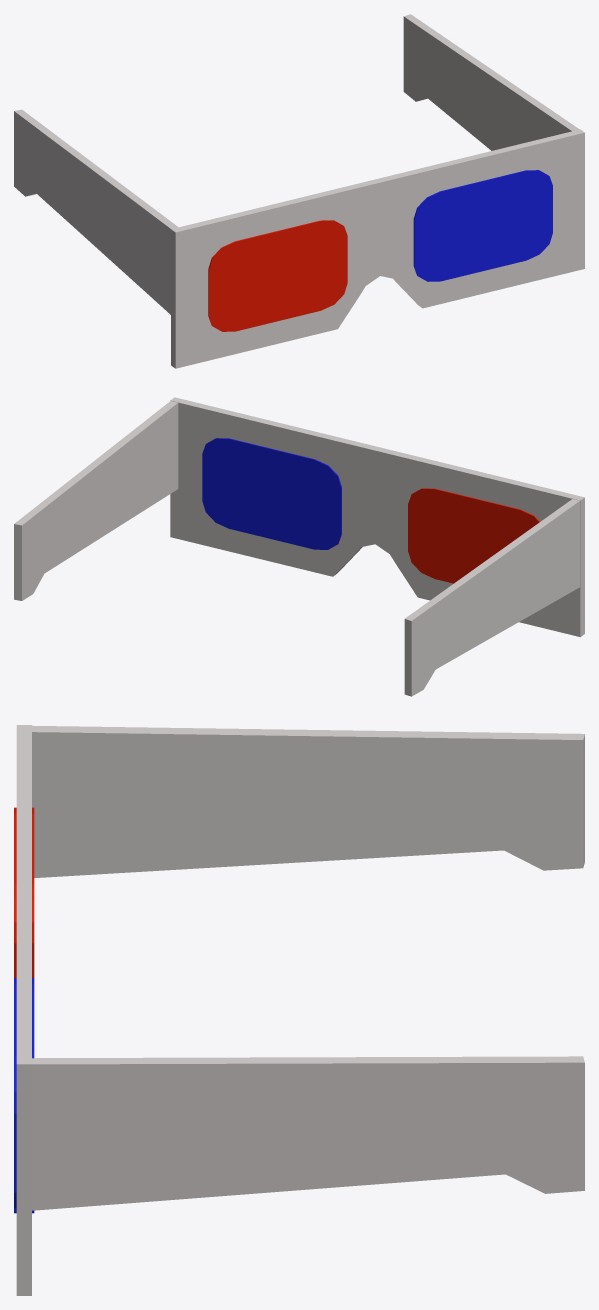
Rendered from Cinema_glasses.fbx.
3 renders of one model, top to bottom at view 1: azimuth 30°, elevation 25°; view 2: azimuth 150°, elevation 25°; view 3: azimuth 270°, elevation 25°, orthographic. The views are drawn at different scales.
Visible parts, largest first — view 1: Cinema_glasses.c, Glasses_stick_52, Glasses_stick_53; view 2: Cinema_glasses.c, Glasses_stick_52, Glasses_stick_53; view 3: Glasses_stick_53, Glasses_stick_52, Cinema_glasses.c.
Part boxes in pixels (x1,y1,x2,y2): Cinema_glasses.c: (171,129,584,368); Glasses_stick_52: (14,109,178,314); Glasses_stick_53: (403,14,579,150); Cinema_glasses.c: (170,397,584,637); Glasses_stick_52: (404,499,579,696); Glasses_stick_53: (14,401,178,600); Glasses_stick_53: (32,1056,584,1210); Glasses_stick_52: (32,725,584,877); Cinema_glasses.c: (14,725,34,1295).
Size of the model in its own units: 0.6295 by 0.2002 by 0.4478.
